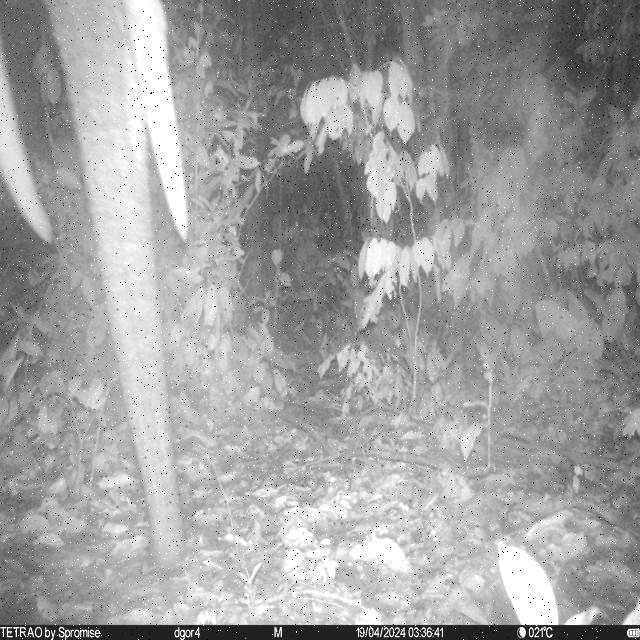elephant: (1, 0, 193, 568)
tusk: (124, 1, 192, 246), (1, 39, 56, 246)
